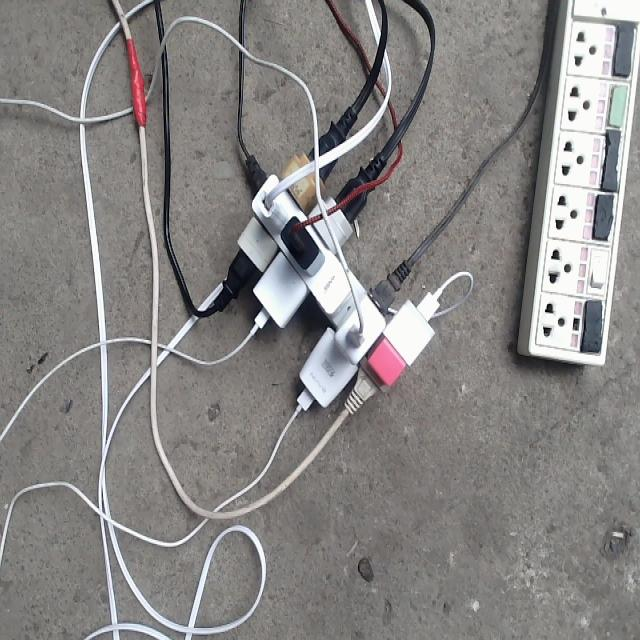-: (203, 96, 440, 417)
